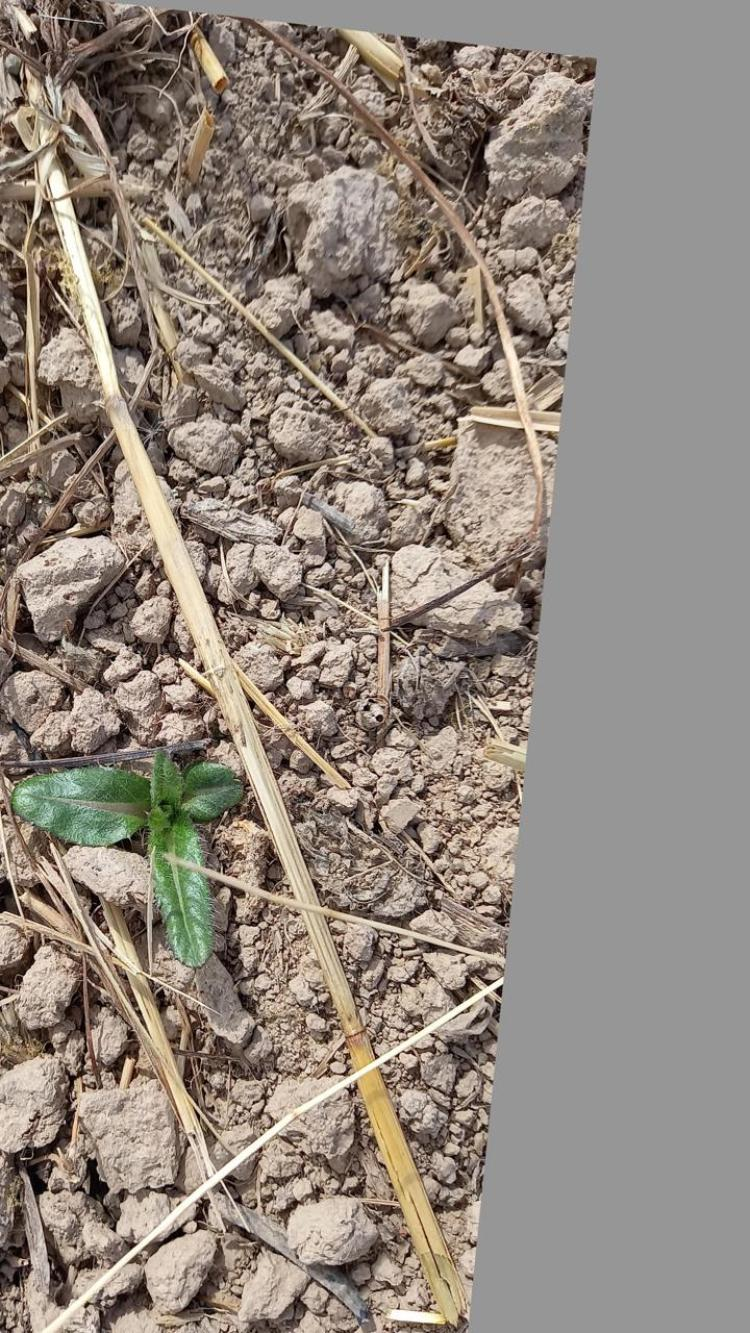bodyak: (6, 748, 248, 970)
